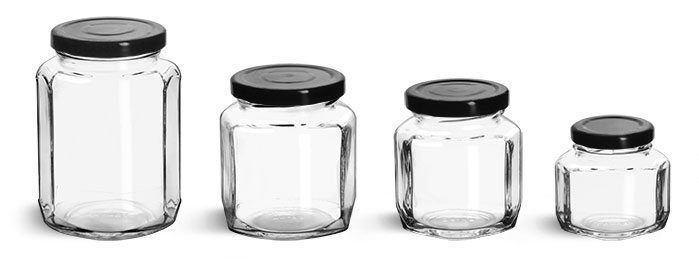glass_bottle: (31, 10, 186, 246), (214, 62, 362, 246), (386, 74, 526, 247), (552, 111, 674, 242)
